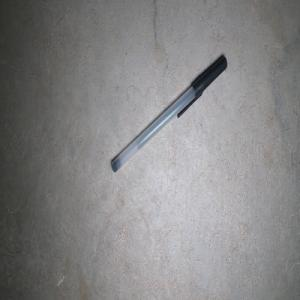Pen: (111, 56, 227, 172)
